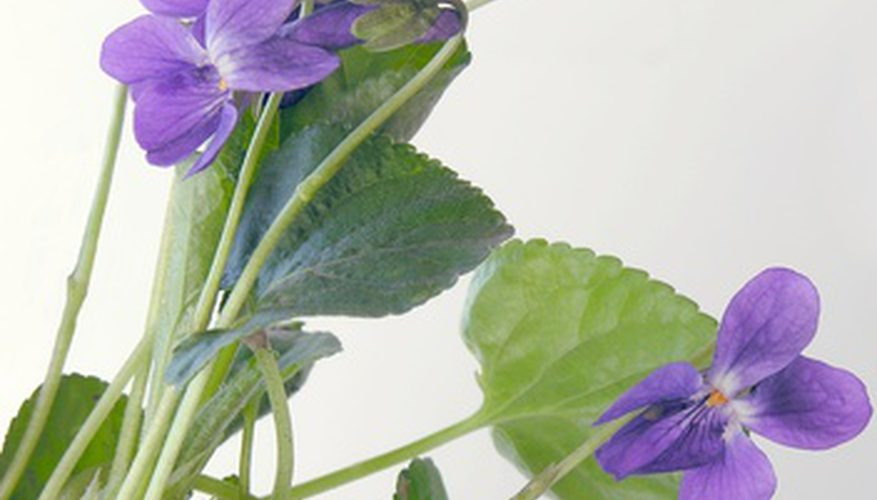violet: (600, 236, 870, 500), (104, 1, 328, 170)
